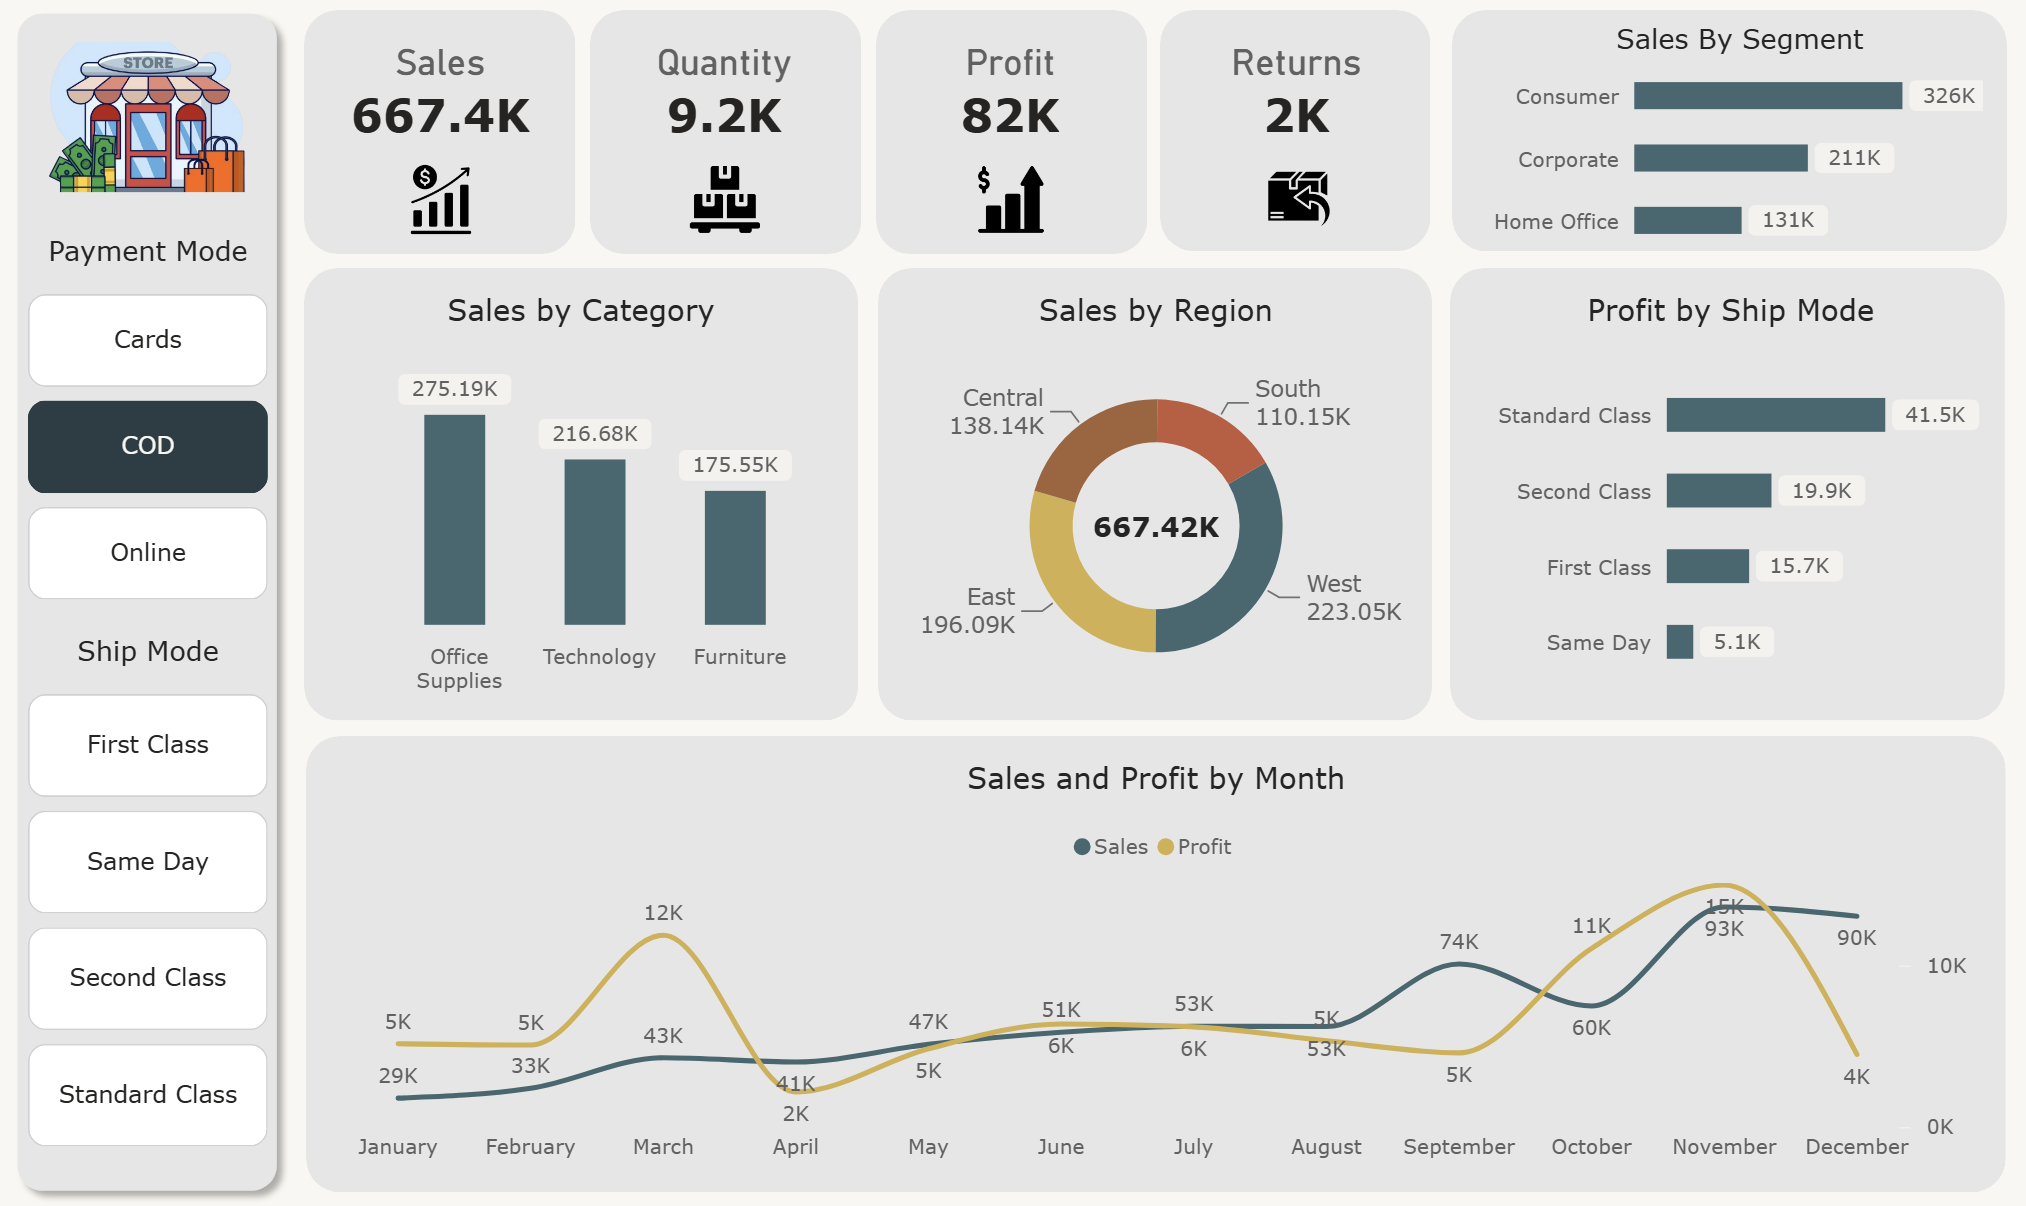

Layout of this report page (visuals, bound fields, positions):
{"tool":"powerbi","page":{"name":"Sales","canvas":[1200,715],"ordinal":0},"visuals":[{"type":"shape","box":[2.4,0,171.6,715],"z":0},{"type":"shape","box":[182.8,436.7,1006.1,270.2],"z":1000},{"type":"lineChart","title":"Sales and Profit by Month","fields":{"Category":["SuperStore_Sales_Dataset.Order Date.Variation.Date Hierarchy.Month"],"Y":["Sum(SuperStore_Sales_Dataset.Sales)"],"Y2":["Sum(SuperStore_Sales_Dataset.Profit)"]},"box":[190,436.6,992.3,271.4],"z":2000},{"type":"shape","box":[181.7,159.5,328,267.8],"z":3000},{"type":"shape","box":[181.7,7,160.7,144.4],"z":4000},{"type":"shape","box":[520.5,159.5,328,267.8],"z":5000},{"type":"shape","box":[859.4,159.5,328.4,267.8],"z":6000},{"type":"lineClusteredColumnComboChart","title":"Sales by Category","fields":{"Category":["SuperStore_Sales_Dataset.Category"],"Y":["Sum(SuperStore_Sales_Dataset.Sales)"]},"box":[181.7,159.3,328,270.2],"z":7000},{"type":"donutChart","title":"Sales by Region","fields":{"Category":["SuperStore_Sales_Dataset.Region"],"Y":["Sum(SuperStore_Sales_Dataset.Sales)"]},"box":[520.3,159.3,329.2,270.2],"z":8000},{"type":"shape","box":[860.1,7,328.5,142.8],"z":9000},{"type":"barChart","title":"Sales by Segment","fields":{"Category":["SuperStore_Sales_Dataset.Segment"],"Y":["Sum(SuperStore_Sales_Dataset.Sales)"]},"box":[859.4,13,331.5,159.8],"z":10000},{"type":"shape","box":[350.5,7,160.7,144.4],"z":11000},{"type":"shape","box":[519.4,7,160.7,144.4],"z":12000},{"type":"shape","box":[688.3,7,160.2,142.8],"z":13000},{"type":"cardVisual","fields":{"Data":["Sum(SuperStore_Sales_Dataset.Sales)"]},"box":[182.8,7,159.5,99],"z":14000},{"type":"image","box":[224.7,97.8,74.5,41.9],"z":15000},{"type":"cardVisual","fields":{"Data":["Sum(SuperStore_Sales_Dataset.Quantity)"]},"box":[350.5,7,159.5,99],"z":16000},{"type":"image","box":[393.6,97.8,74.5,41.9],"z":17000},{"type":"cardVisual","fields":{"Data":["Sum(SuperStore_Sales_Dataset.Profit)"]},"box":[519.4,7,159.5,99],"z":18000},{"type":"image","box":[562.5,97.8,74.5,41.9],"z":19000},{"type":"cardVisual","fields":{"Data":["CountNonNull(SuperStore_Sales_Dataset.Returns)"]},"box":[689.4,7,159.5,99],"z":20000},{"type":"image","box":[732.5,97.8,74.5,41.9],"z":21000},{"type":"image","box":[11.8,26,152.7,88.8],"z":22000},{"type":"advancedSlicerVisual","fields":{"Values":["SuperStore_Sales_Dataset.Payment Mode"]},"box":[17.8,139.7,142.1,219],"z":23000},{"type":"advancedSlicerVisual","fields":{"Values":["SuperStore_Sales_Dataset.Ship Mode"]},"box":[17.8,376.4,142.1,305.4],"z":24000},{"type":"textbox","box":[938.7,14.2,184.7,23.7],"z":25000},{"type":"clusteredBarChart","title":"Profit by Ship Mode","fields":{"Category":["SuperStore_Sales_Dataset.Ship Mode"],"Y":["Sum(SuperStore_Sales_Dataset.Profit)"]},"box":[860.6,159.8,330.3,267.5],"z":25001}]}

Visuals, with their boxes in screenshot pixels (x1, y1, x2, y2), scaled from the page's 1200x715 canvas onto the 2026x1206 screenshot:
shape: bbox(4, 0, 294, 1205)
shape: bbox(309, 737, 2007, 1192)
"Sales and Profit by Month" lineChart: bbox(321, 736, 1996, 1194)
shape: bbox(307, 269, 861, 721)
shape: bbox(307, 12, 578, 255)
shape: bbox(879, 269, 1433, 721)
shape: bbox(1451, 269, 2005, 721)
"Sales by Category" lineClusteredColumnComboChart: bbox(307, 269, 861, 724)
"Sales by Region" donutChart: bbox(878, 269, 1434, 724)
shape: bbox(1452, 12, 2007, 253)
"Sales by Segment" barChart: bbox(1451, 22, 2011, 291)
shape: bbox(592, 12, 863, 255)
shape: bbox(877, 12, 1148, 255)
shape: bbox(1162, 12, 1433, 253)
cardVisual - Sum(SuperStore_Sales_Dataset.Sales): bbox(309, 12, 578, 179)
image: bbox(379, 165, 505, 236)
cardVisual - Sum(SuperStore_Sales_Dataset.Quantity): bbox(592, 12, 861, 179)
image: bbox(665, 165, 790, 236)
cardVisual - Sum(SuperStore_Sales_Dataset.Profit): bbox(877, 12, 1146, 179)
image: bbox(950, 165, 1075, 236)
cardVisual - CountNonNull(SuperStore_Sales_Dataset.Returns): bbox(1164, 12, 1433, 179)
image: bbox(1237, 165, 1362, 236)
image: bbox(20, 44, 278, 194)
advancedSlicerVisual - SuperStore_Sales_Dataset.Payment Mode: bbox(30, 236, 270, 605)
advancedSlicerVisual - SuperStore_Sales_Dataset.Ship Mode: bbox(30, 635, 270, 1150)
textbox: bbox(1585, 24, 1897, 64)
"Profit by Ship Mode" clusteredBarChart: bbox(1453, 270, 2011, 721)
